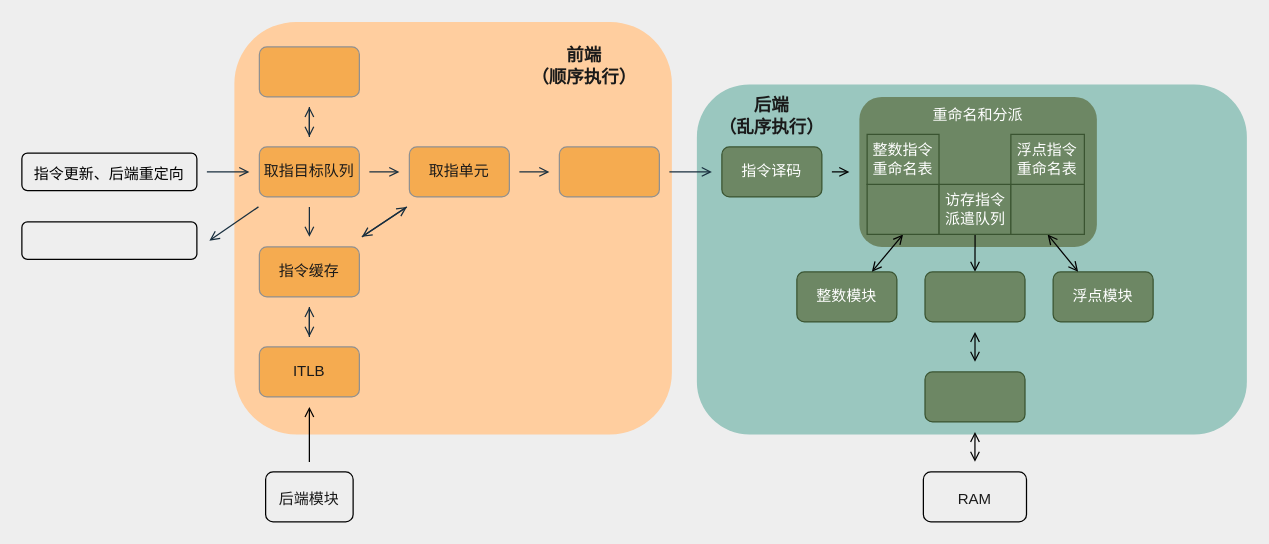
This 1269x544 diagram has some shape labels left out. The shapes that lost their labels are listed below. From the top down, each one's box as (x1, y1, x2, y2) in pixels, then its label:
(258, 46, 359, 97): 分支预测单元
(558, 146, 659, 197): 指令缓冲器
(866, 183, 939, 234): 整数指令派遣队列
(1010, 183, 1084, 234): 浮点指令派遣队列
(21, 221, 197, 259): 后端读取PC值
(924, 271, 1025, 322): 访存模块
(924, 371, 1025, 422): Cache
